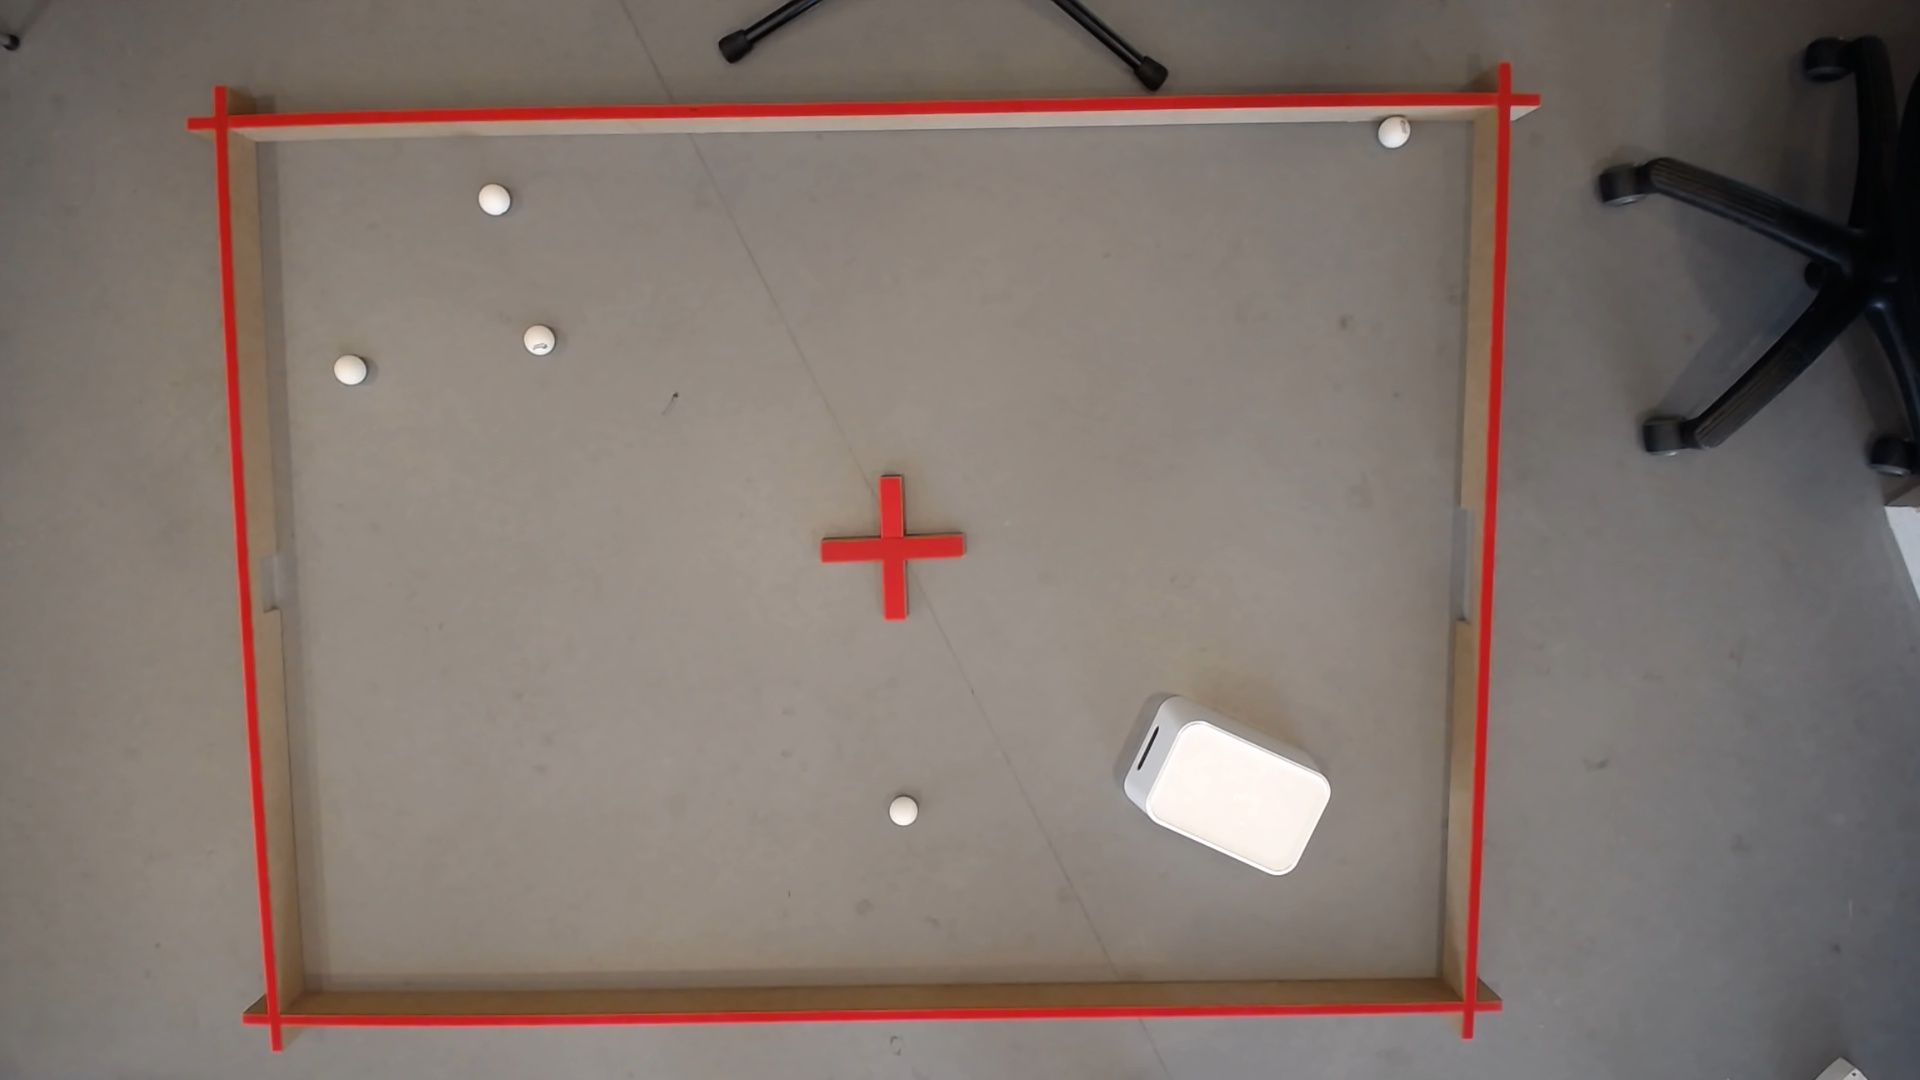balls: (1116, 702, 1336, 882), (473, 182, 512, 219), (328, 355, 367, 389), (518, 326, 555, 359), (886, 802, 916, 827)
car: (1375, 119, 1408, 152)
